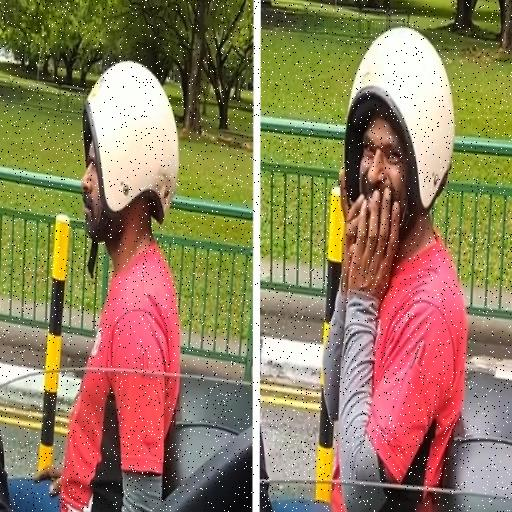Helmet: (344, 28, 454, 216), (84, 61, 178, 223)
